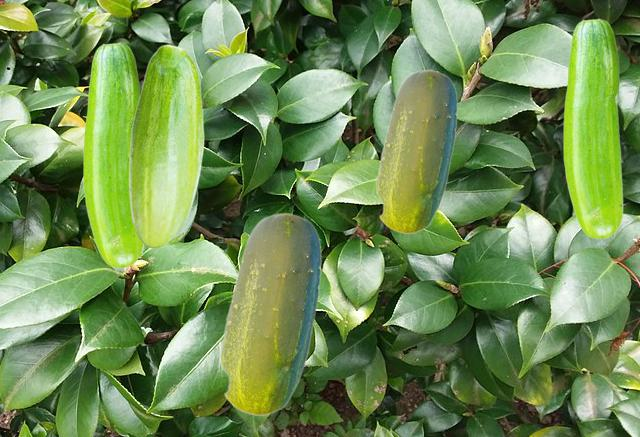cucumber: (219, 212, 320, 415), (128, 44, 203, 247), (83, 42, 143, 267), (375, 69, 456, 233), (563, 18, 622, 238)
